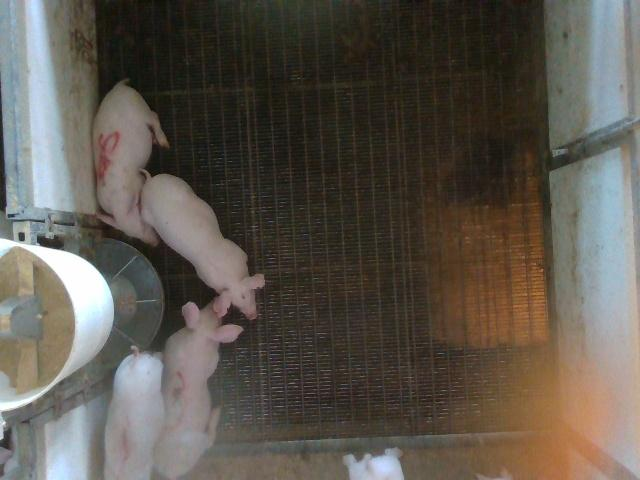pig-1: (105, 350, 165, 478)
pig-3: (154, 302, 242, 478)
pig-5: (94, 80, 169, 246)
